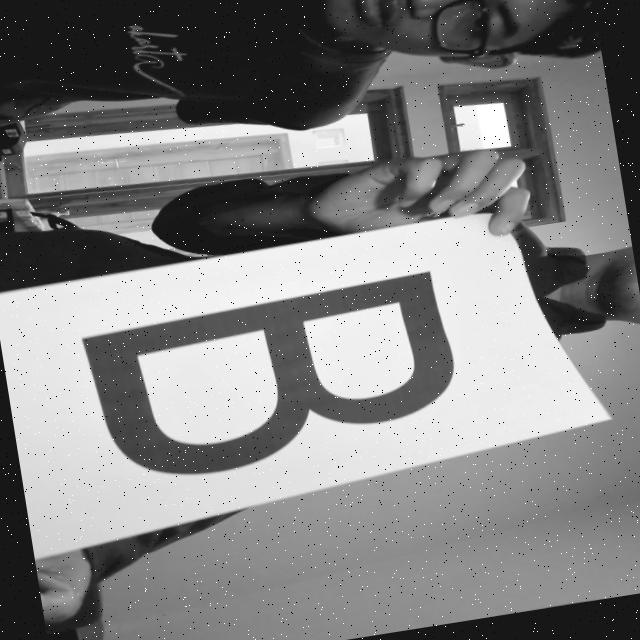b: (54, 257, 486, 508)
